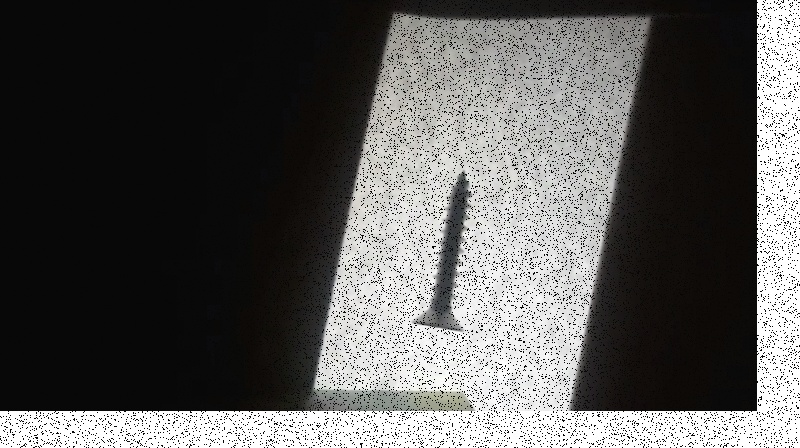S001: (407, 168, 478, 334)
